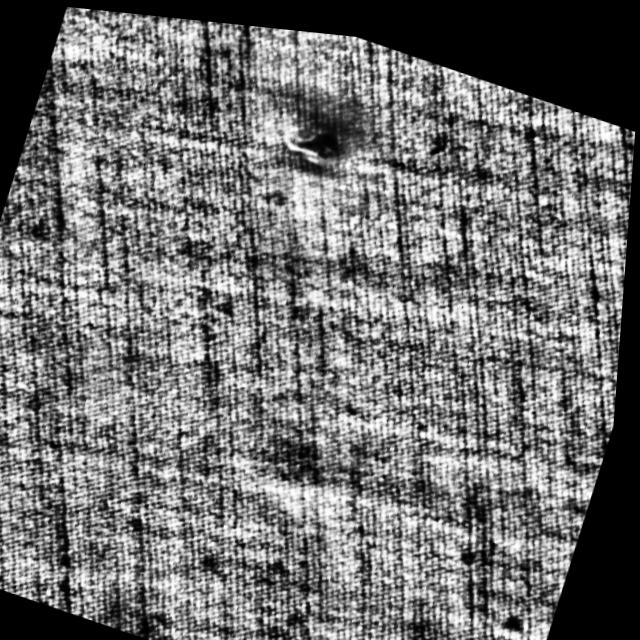Stitch: (276, 106, 355, 170)
